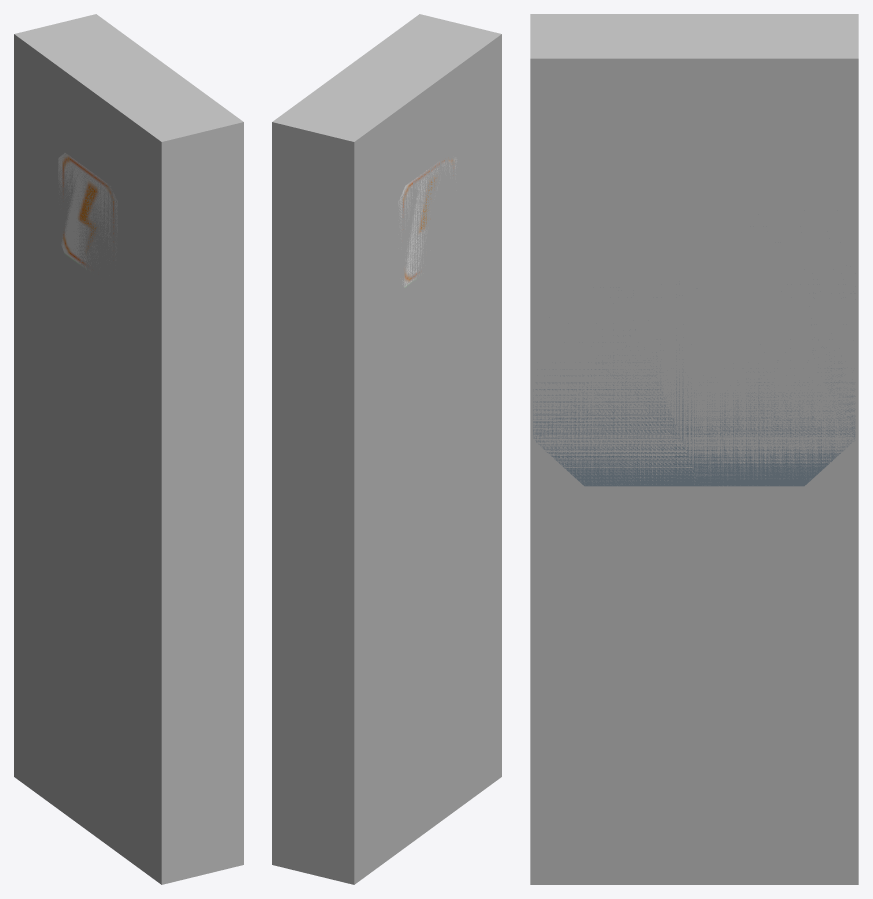
Rendered from SM_Electric_Box_01.fbx.
3 views of the same model, side by side, from view 1: azimuth 30°, elevation 25°; view 2: azimuth 150°, elevation 25°; view 3: azimuth 270°, elevation 25° (orthographic). The views are drawn at different scales.
Visible parts, largest first — view 1: SM_Electric_Box_01_ConvexHulls, SM_Electric_Box_01; view 2: SM_Electric_Box_01_ConvexHulls, SM_Electric_Box_01; view 3: SM_Electric_Box_01_ConvexHulls, SM_Electric_Box_01.
Boxes of the visible parts, x1,y1,x2,y2 form: SM_Electric_Box_01_ConvexHulls: (14,14,243,884); SM_Electric_Box_01: (58,153,117,270); SM_Electric_Box_01_ConvexHulls: (272,14,501,884); SM_Electric_Box_01: (398,157,456,287); SM_Electric_Box_01_ConvexHulls: (530,14,858,884); SM_Electric_Box_01: (533,329,855,486).
Size of the model in its own units: 36 by 112 by 311.
Materials: 2 (1 with a texture image).
